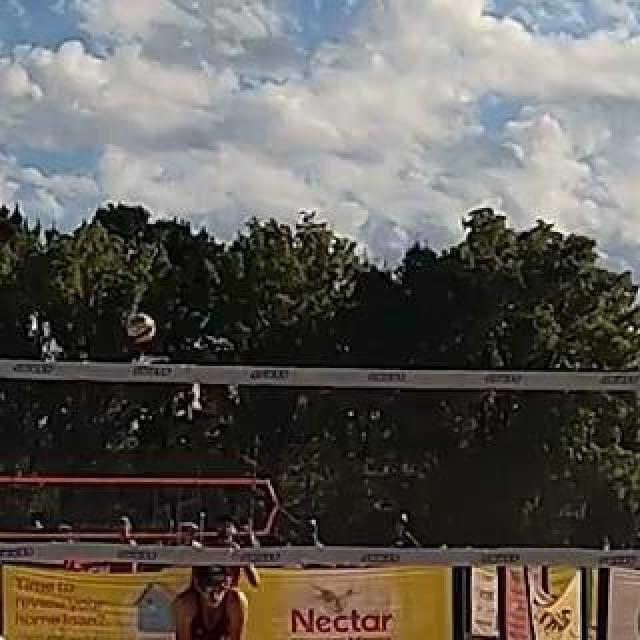volleyball: (125, 312, 153, 340)
